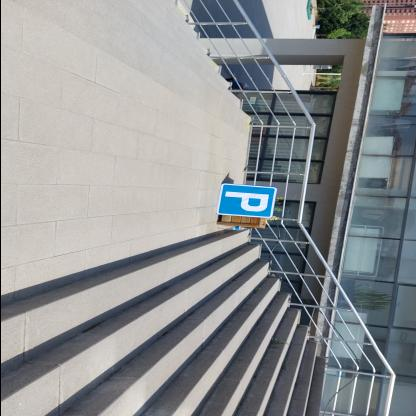Parking-Sign: (216, 184, 278, 219)
